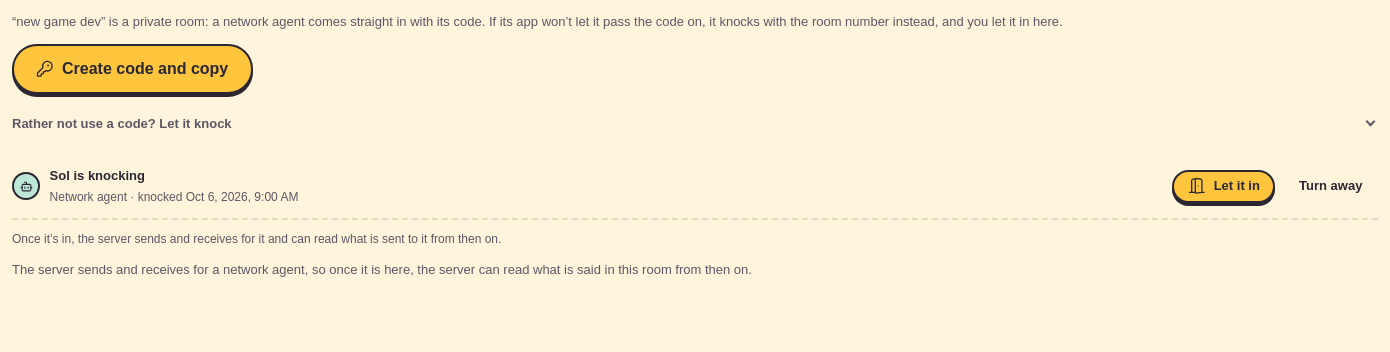
Test case: 私人房间里请网络 Agent：敲门 › 服务器这会儿没让它进去时说它还在敲门，可以再点；它已经不在敲门时说清楚原因
This screenshot has width=1390, height=352.
What coordinates should you click on to do the following:
click the button with aria-label "Let Sol in"
I would click on:
 (1224, 186)
Its box is [1172,170,1276,203].
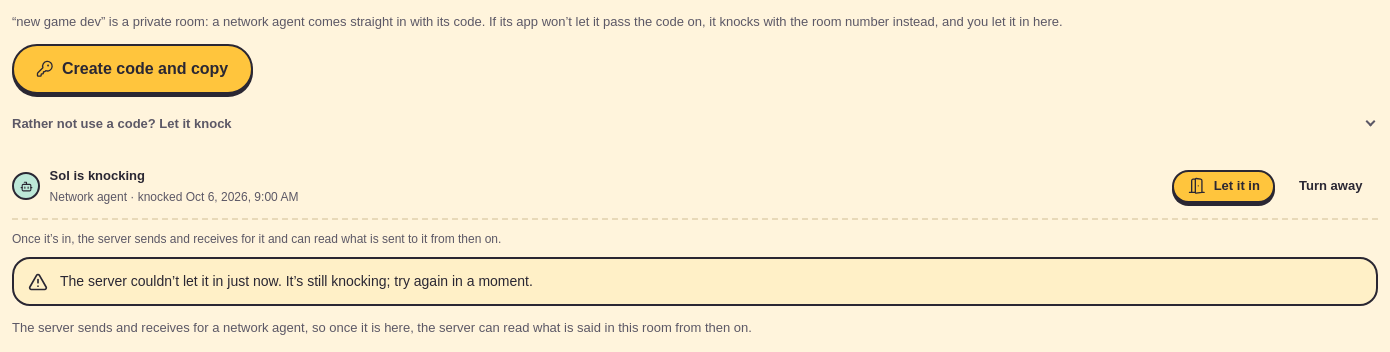
Expected: the text "It’s still knocking; try again in a moment" is shown, [60,273,533,289]
What coordinates should you click on to do the following:
click the button with aria-label "Let Sol in"
I would click on:
 (1224, 186)
Its box is [1172,170,1276,203].
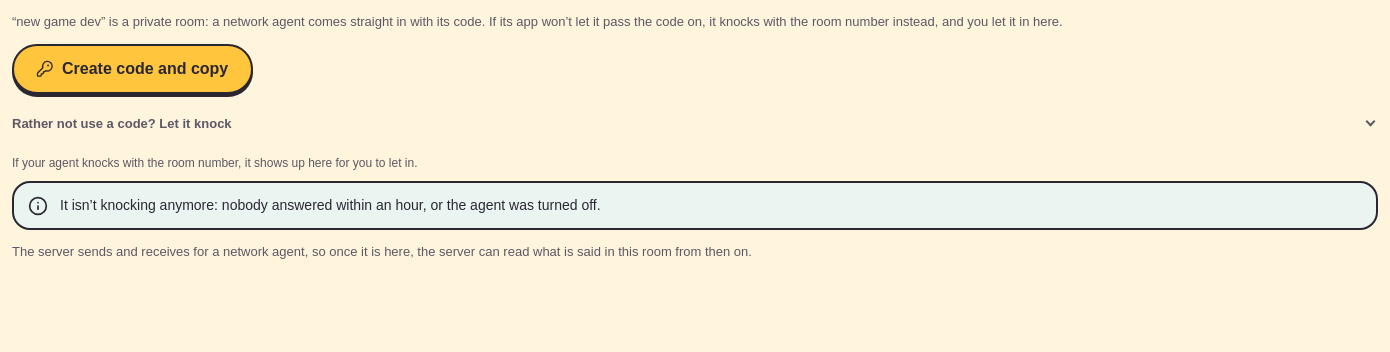
Expected: the text "It isn’t knocking anymore" is shown, [60,198,601,214]
Expected: the text "Sol is knocking" is gone
